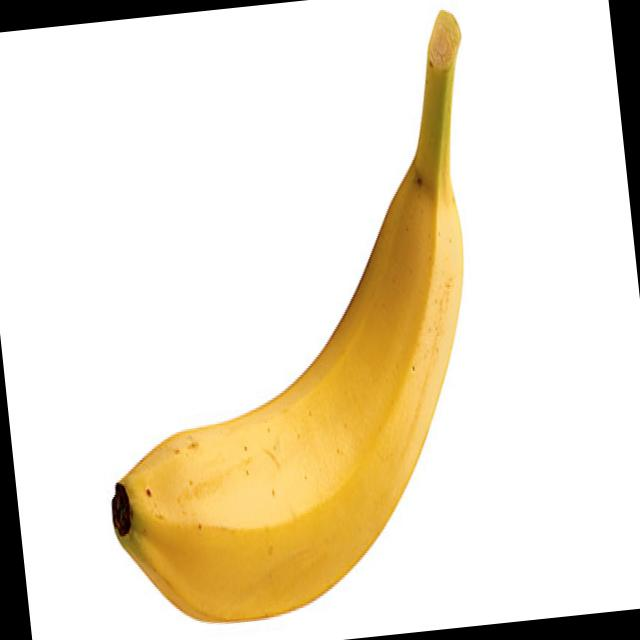banana: (72, 147, 518, 640)
